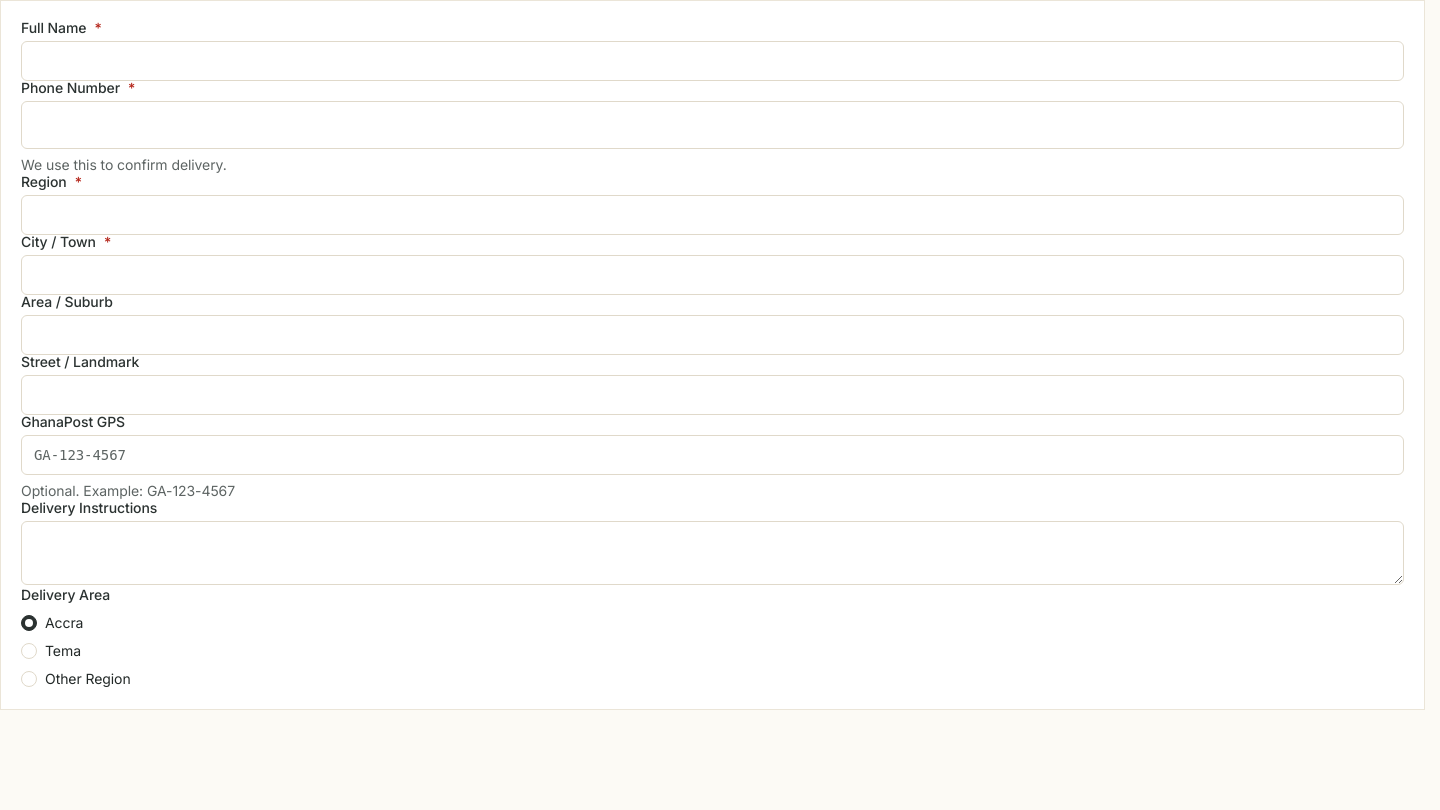
Scenario: GhanaAddressForm › explains nationwide delivery when Other Region is selected
The width and height of the screenshot is (1440, 810).
Click the radio button named "Other Region" next to "Other Region": click(29, 679) x1=21 y1=671 x2=37 y2=687
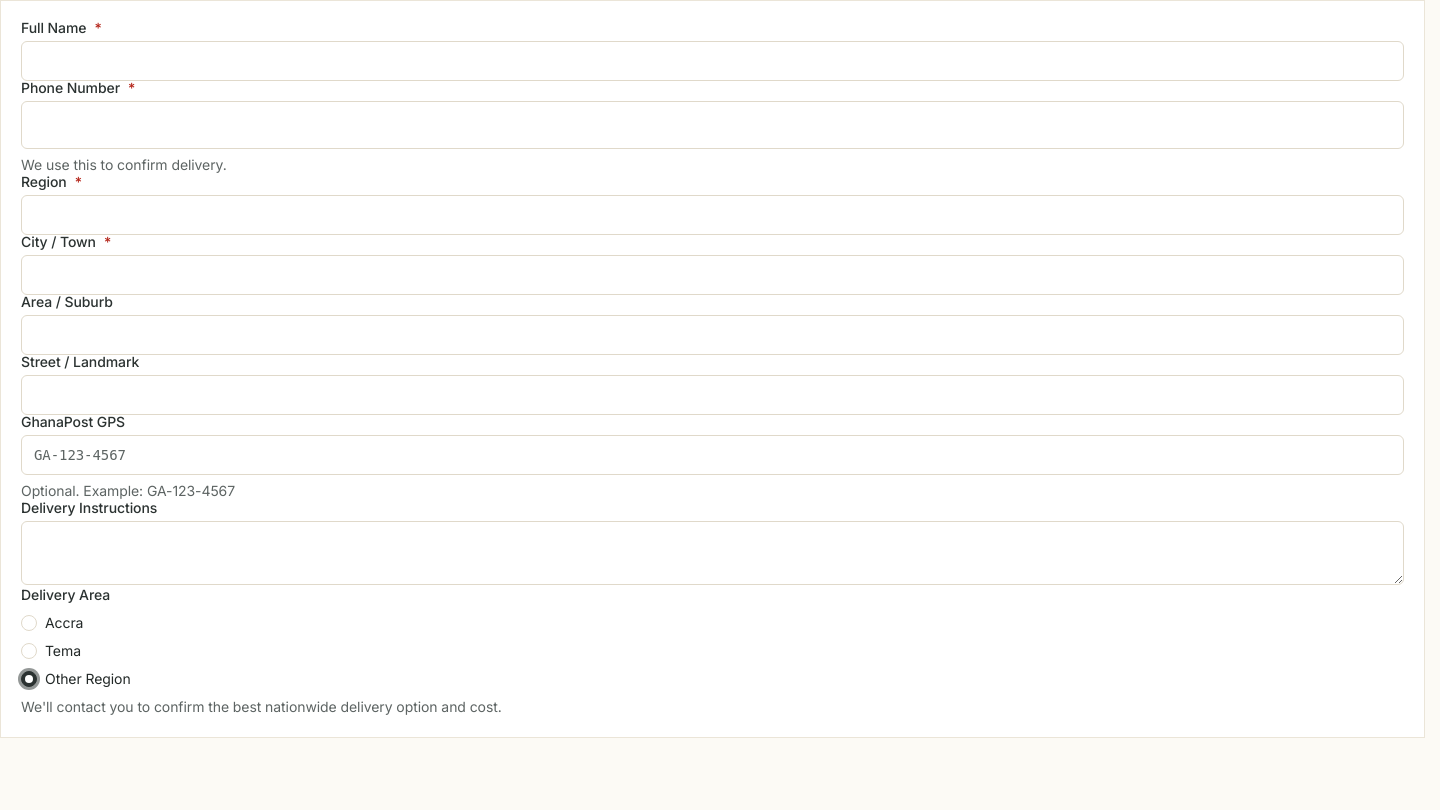
Expected: the text "nationwide delivery option and cost" is shown, x1=21 y1=698 x2=502 y2=715
